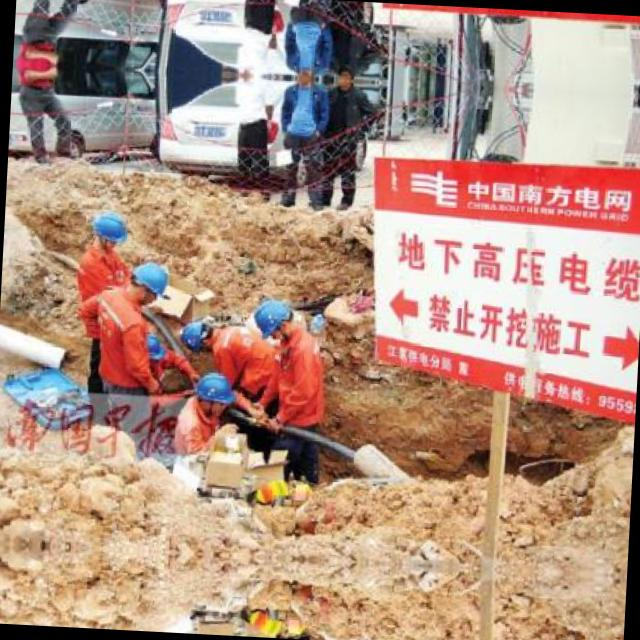helmet: (250, 300, 304, 344), (130, 258, 172, 302), (86, 206, 126, 251), (194, 372, 232, 418), (181, 318, 220, 352)
